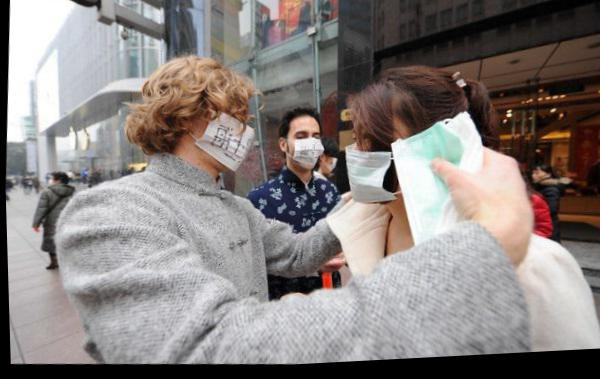NONE: (531, 177, 543, 190)
OK: (340, 121, 410, 207), (282, 129, 326, 174)
WRONG: (178, 100, 256, 175)
